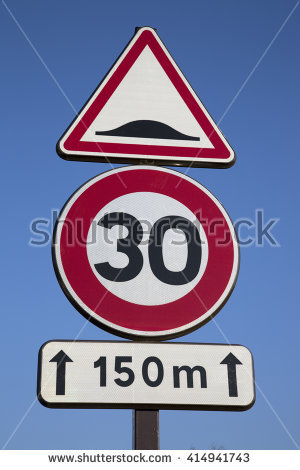Speed_limit_30km: (55, 176, 238, 336)
